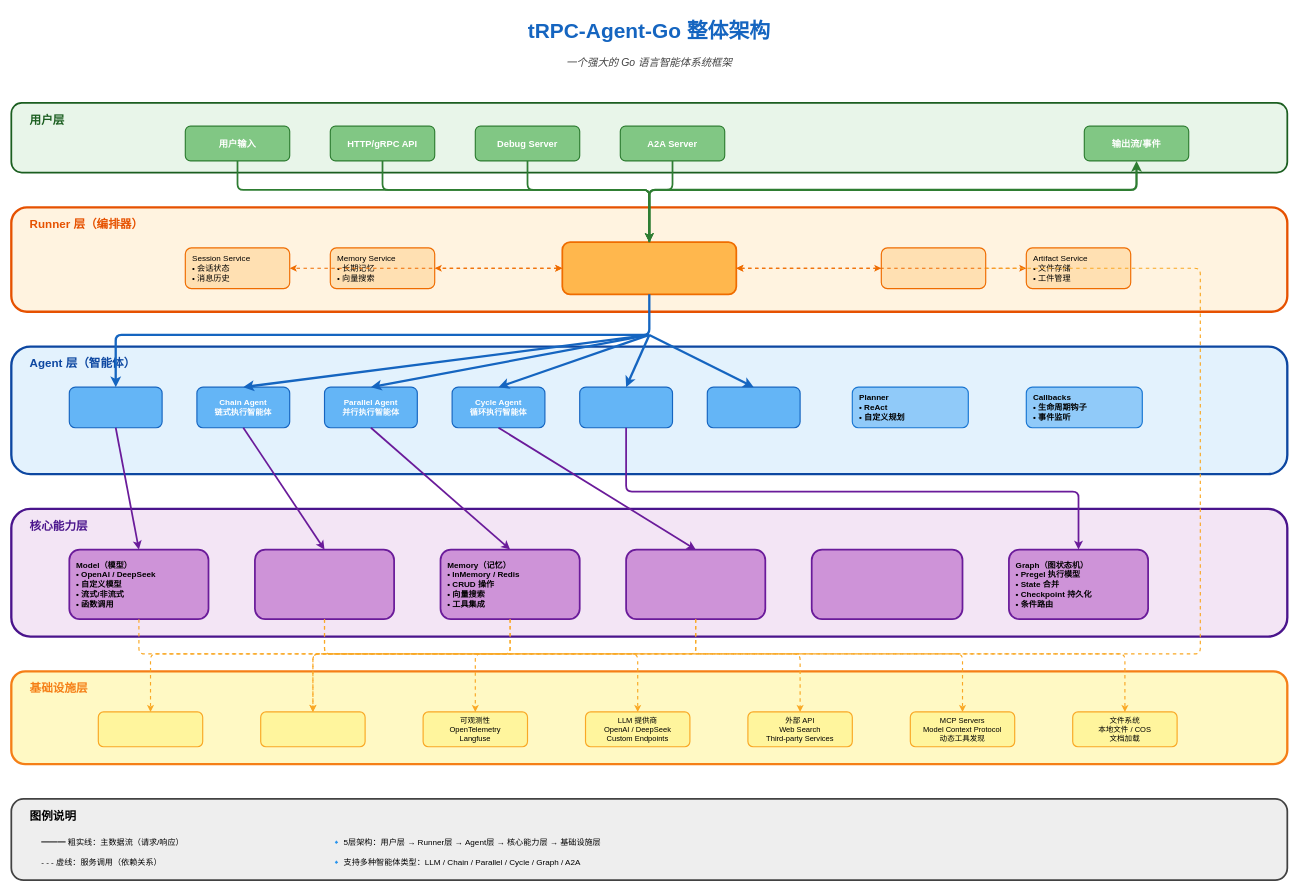
Image size: 1298x891. Some labels were removed from this diagram. Each missing label, with the centre of its shape:
A2A Agent Agent-to-Agent: the point at 753,407
Code Executor （代码执行） • 本地执行 • 容器沙箱 • 安全隔离: the point at 887,584
Graph Agent 图状态执行智能体: the point at 626,407
Knowledge（知识库） • RAG 检索增强 • 文档加载/切块 • 向量嵌入 • 语义搜索: the point at 695,584
LLM Agent 基础 LLM 智能体: the point at 115,407
Runner • 会话管理 • 流程编排 • 上下文维护 • 事件流处理: the point at 649,268
Telemetry • 追踪/指标 • 可观测性: the point at 933,268
Tool（工具） • Function Tool • MCP Protocol • DuckDuckGo • File Operations: the point at 324,584
向量数据库 PGVector / TCVector InMemory: the point at 312,729
存储后端 Redis / PostgreSQL ElasticSearch / COS: the point at 150,729
